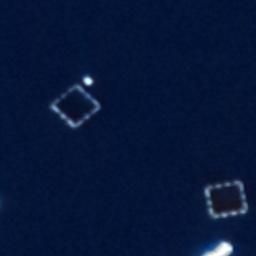square_solid: (48, 81, 103, 132), (201, 175, 251, 221)
